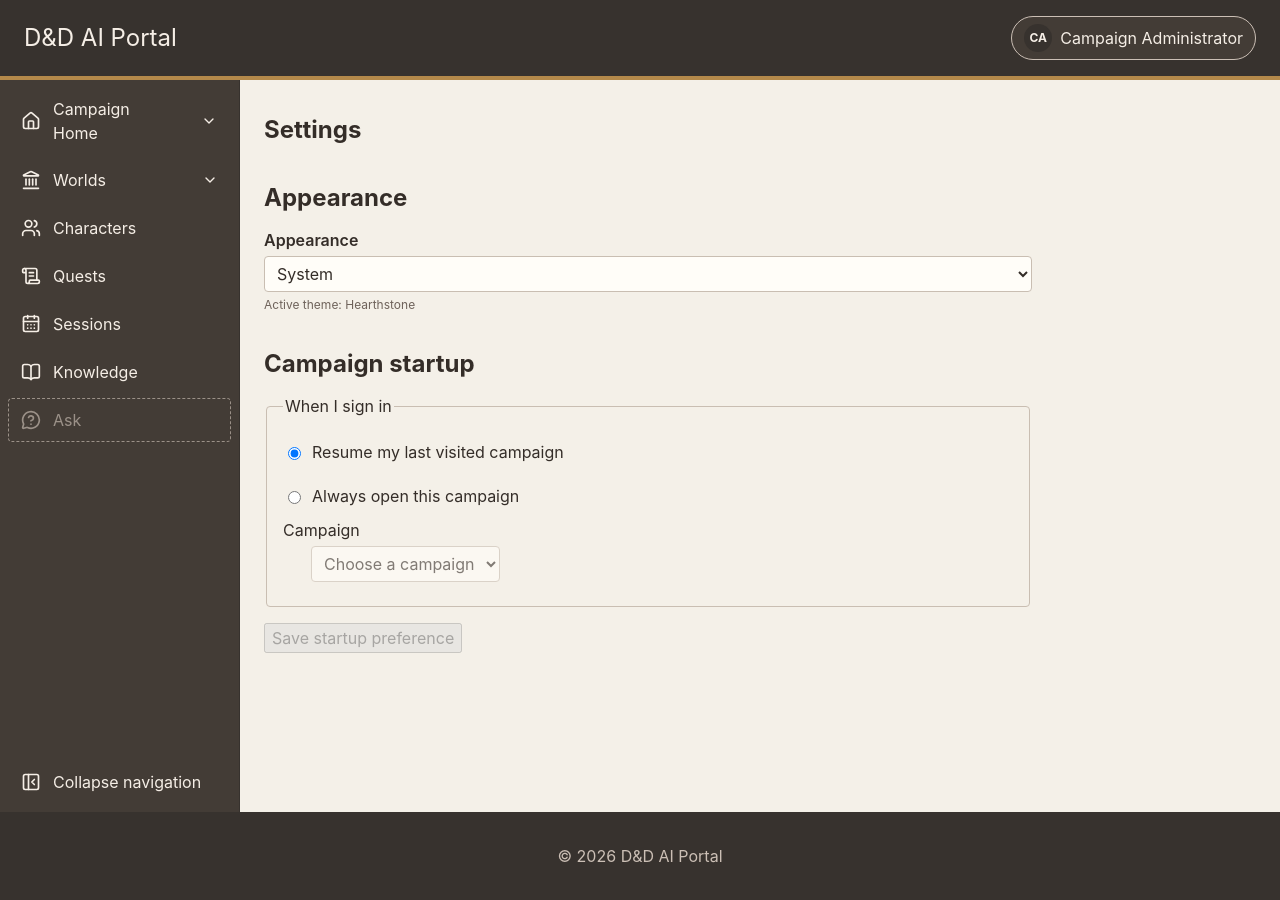
Test: saved startup preference reaches the shared session › sends an expired session to sign-in after a save whose refresh is unauthenticated
Expected: the heading "Settings" is shown, [264, 115, 361, 144]
Click the radio button labelled "Always open this campaign" at (294, 498), box [288, 491, 301, 504]
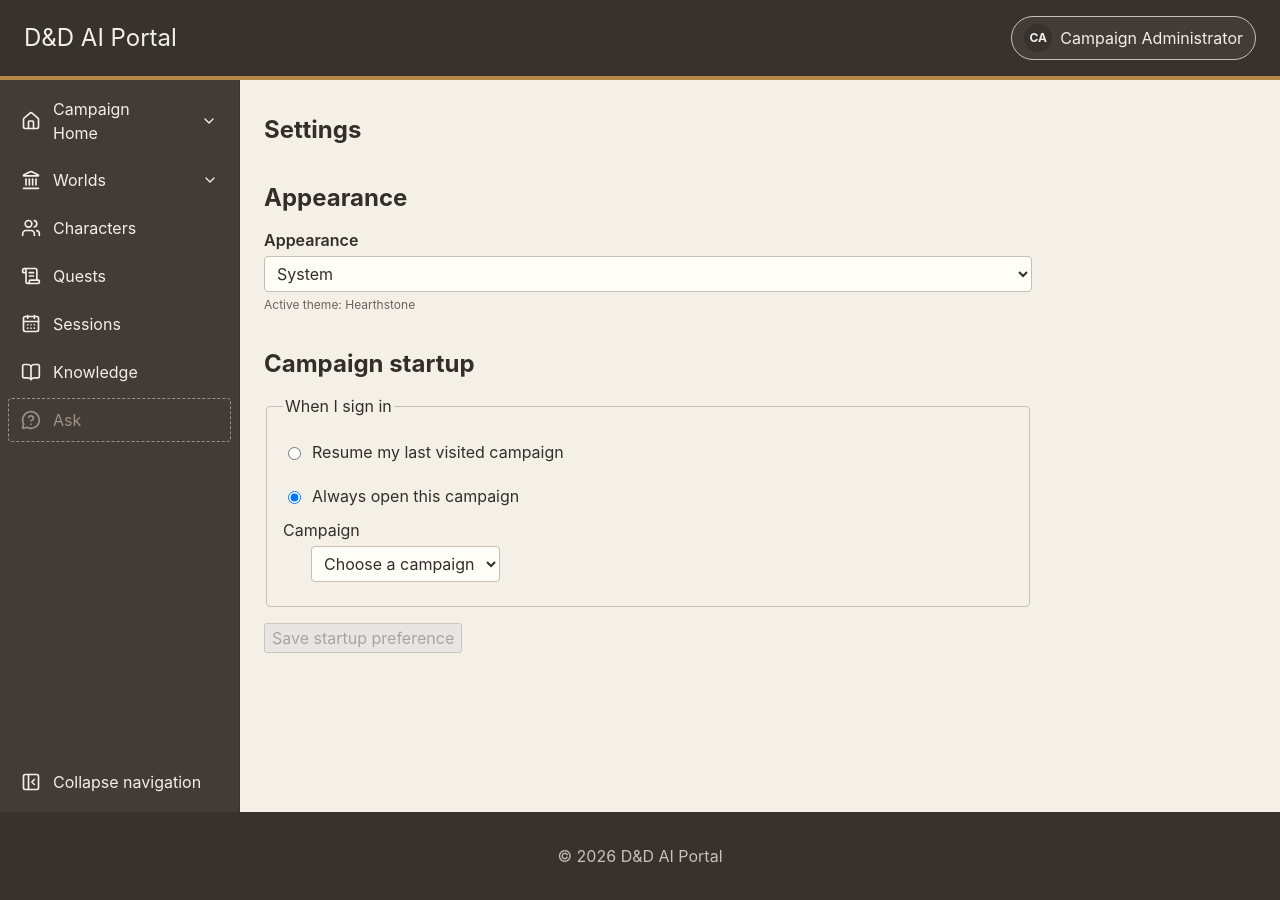
Select "Beta" in the dropdown labelled "Campaign" at (406, 564), box [311, 546, 500, 582]
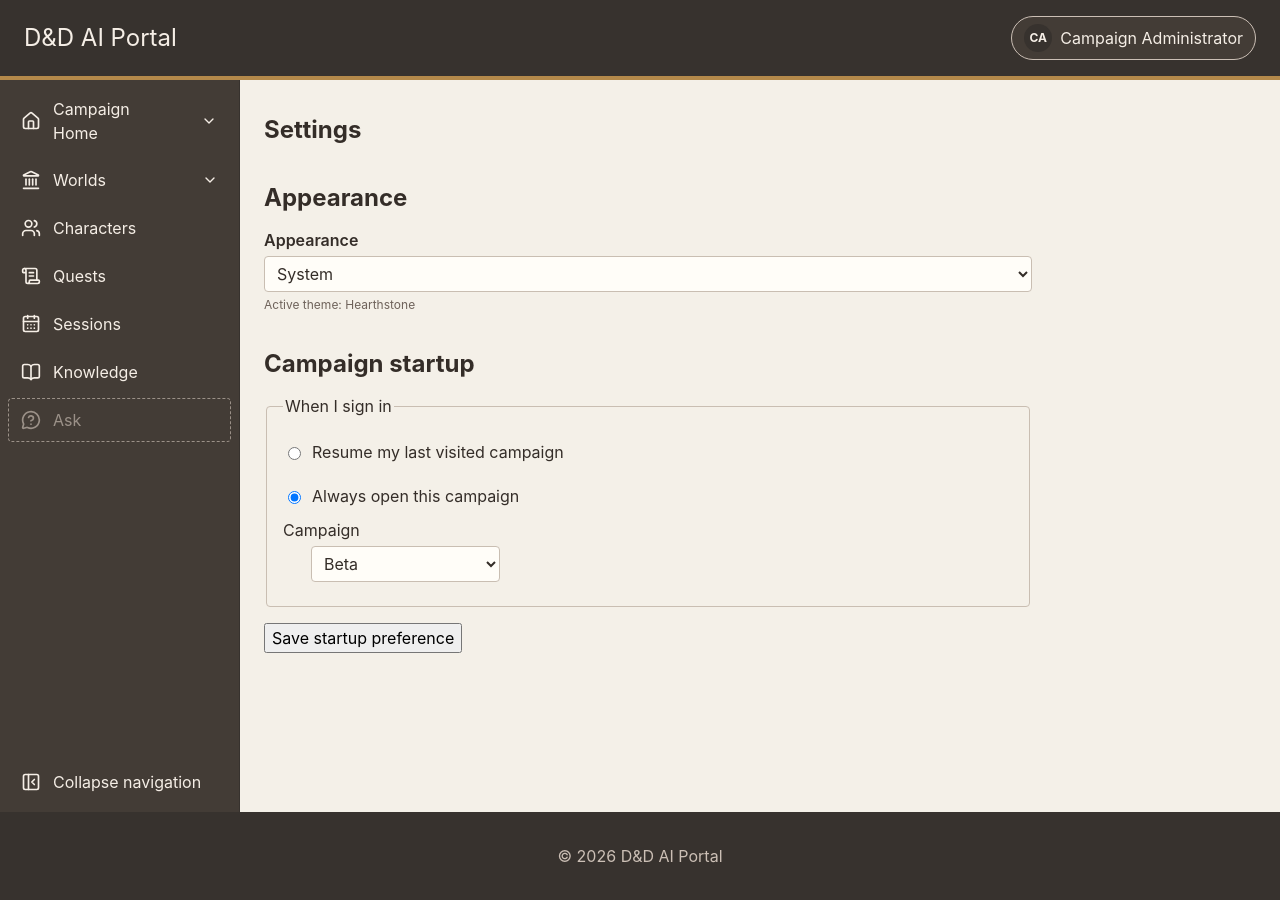
Click the button "Save startup preference" at (363, 638), box [264, 623, 462, 653]
(page scrolled)
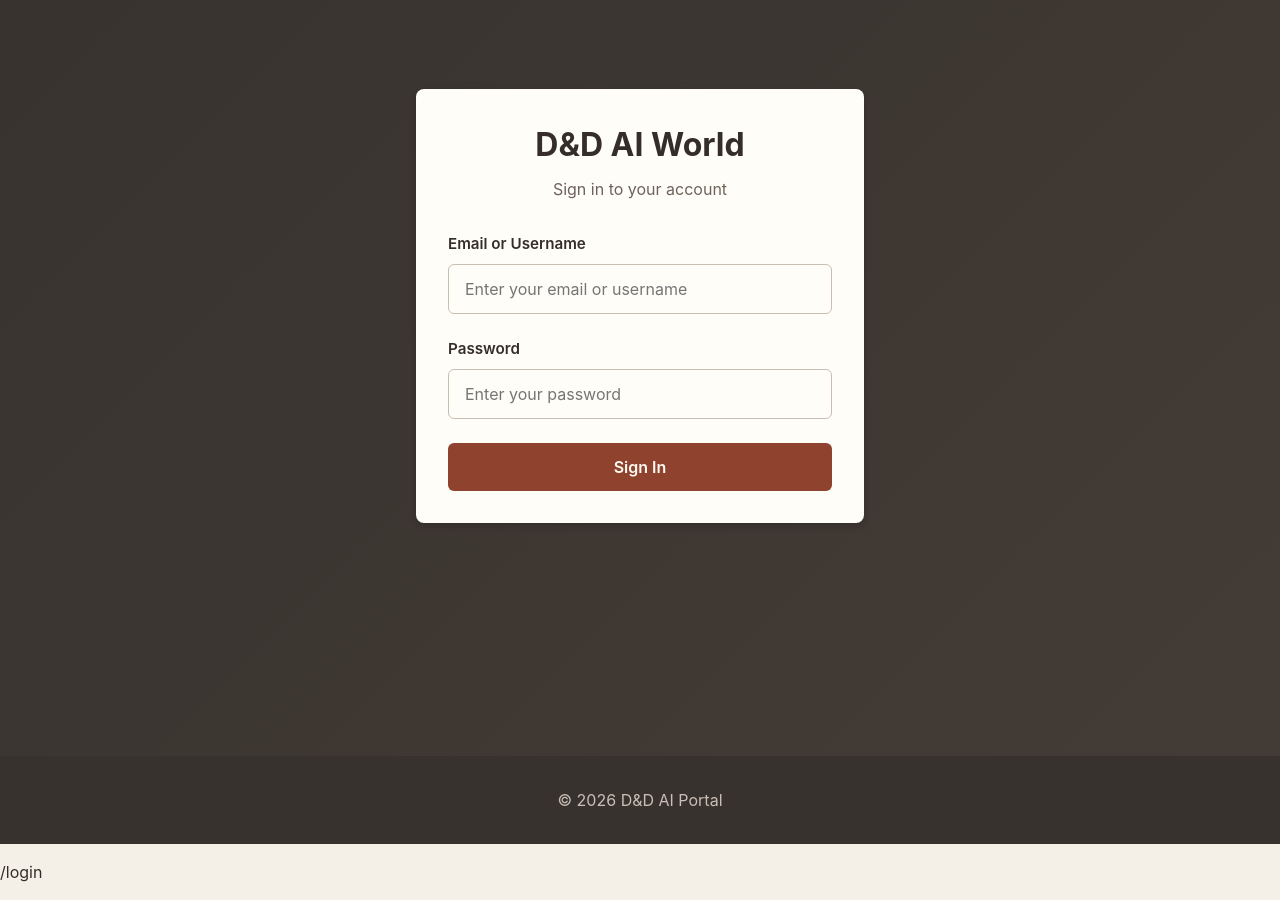
Result: the text with test id "location" reads "/login" at [0, 862, 42, 882]
